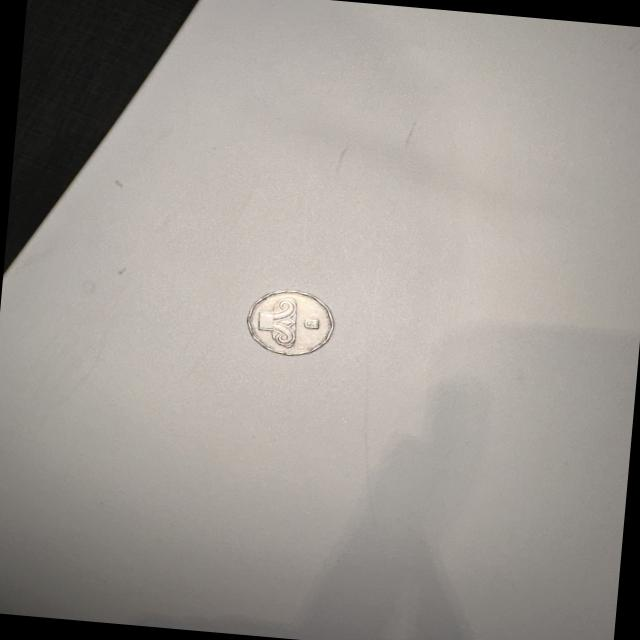5-shekel: (240, 284, 338, 367)
